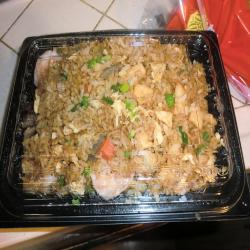rice: (31, 47, 219, 197)
